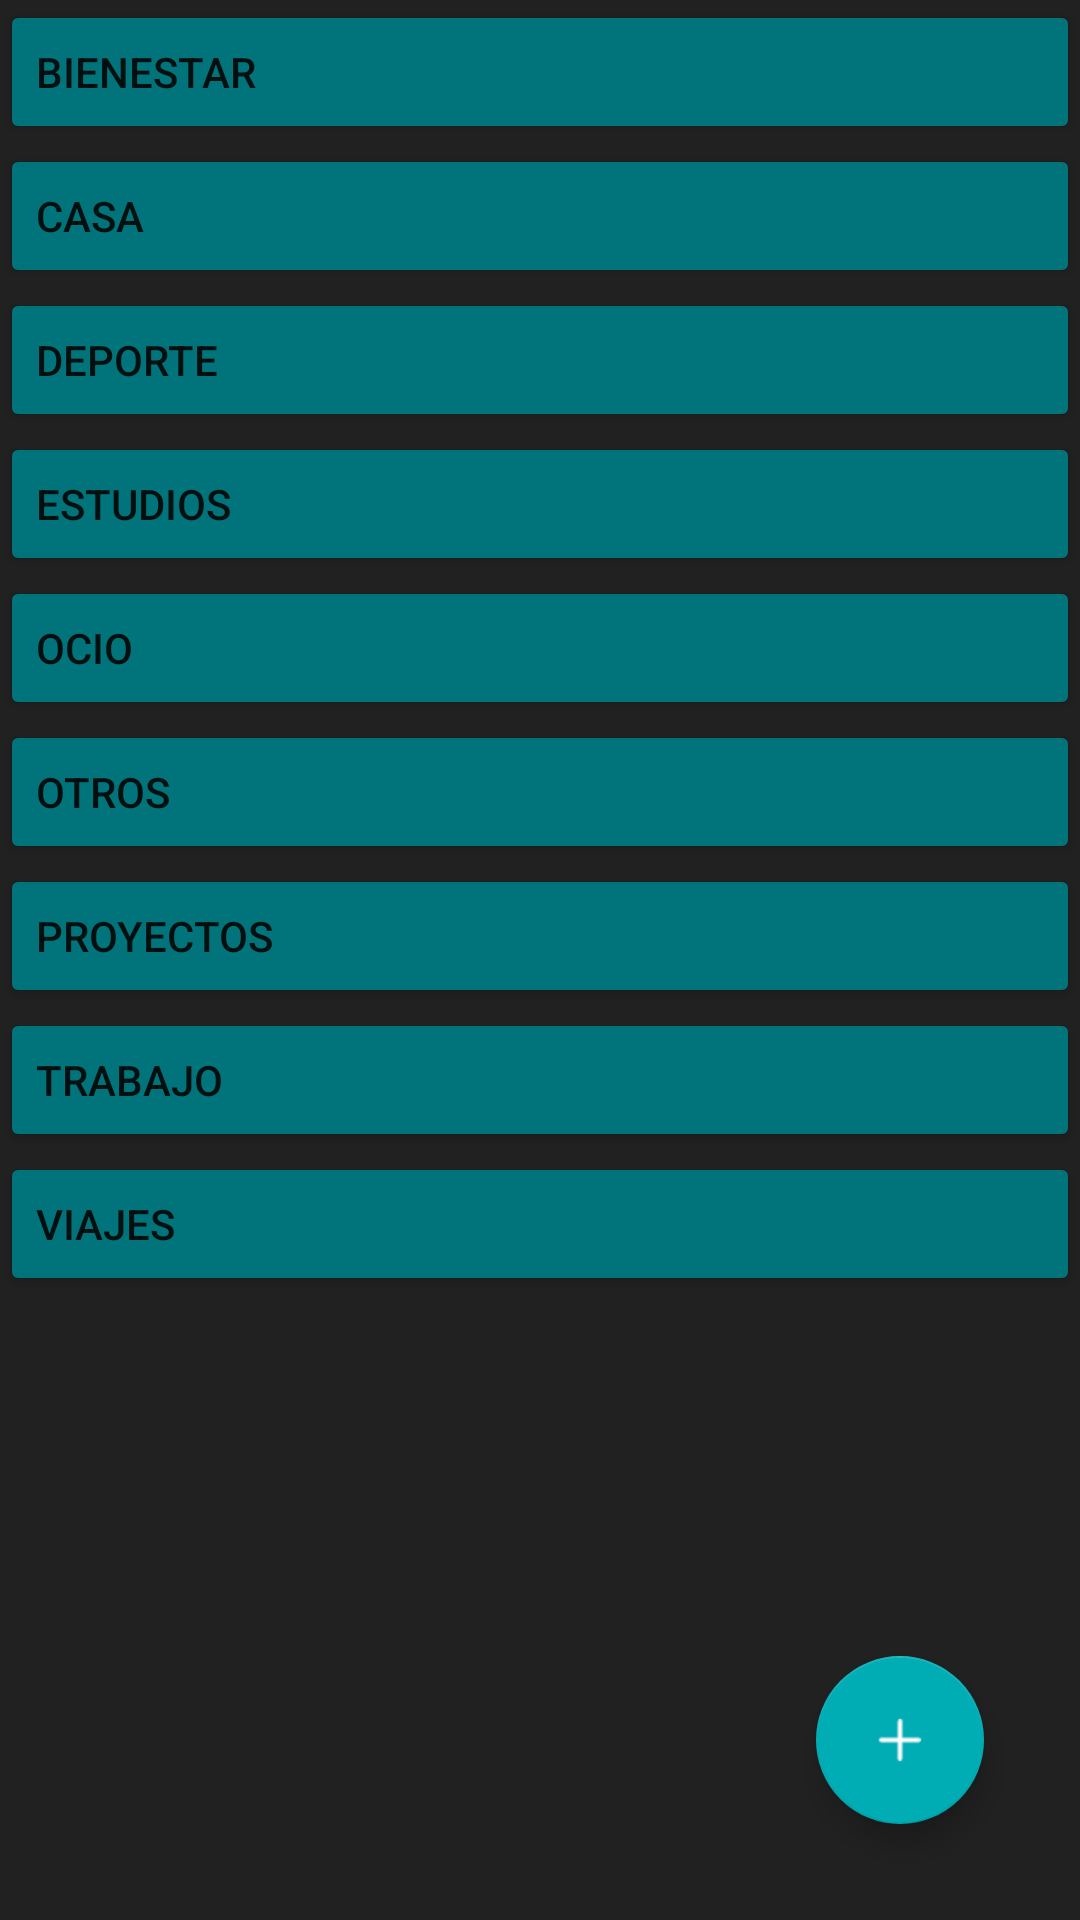

Named icons in this screenshot (1080px×1920px) and their centers, [x,y]:
add round: [900,1740]
